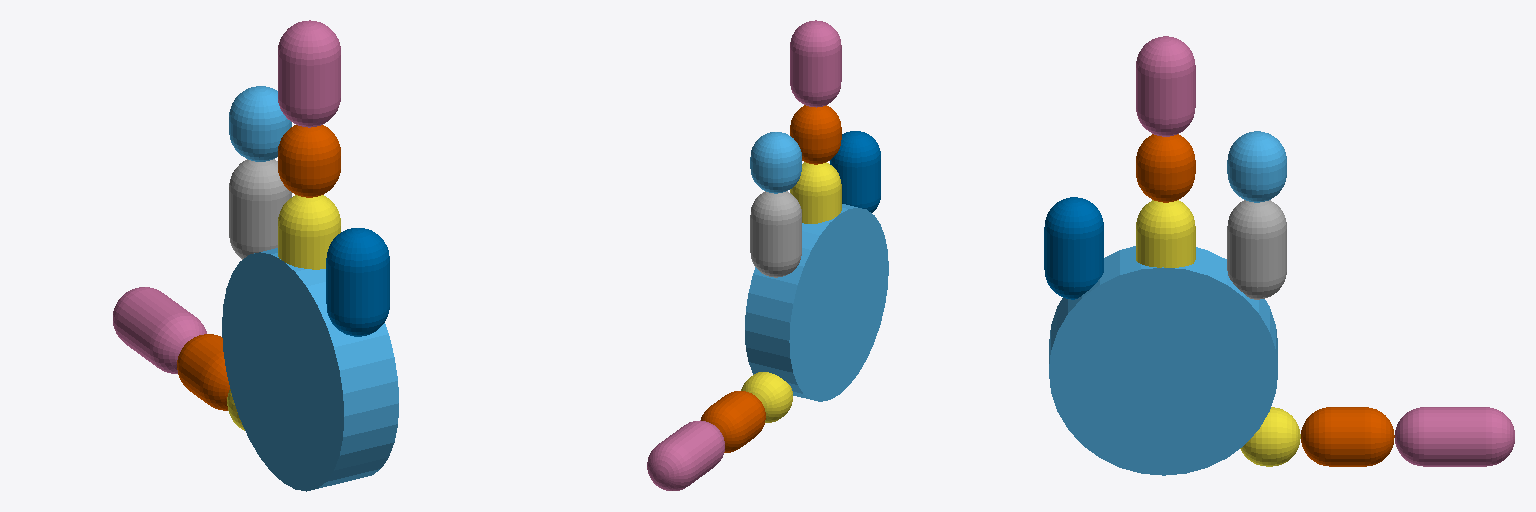
URDF robot description (DexterousHand):
<?xml version="1.0"?>
<robot name="DexterousHand">


    <link name="world"/>
    <joint name="world_to_palm" type="fixed">
        <parent link="world"/>
        <child link="palm"/>
        <origin xyz="0 0 0" rpy="0 0 0"/>
    </joint>
    <link name="palm">
        <inertial>
            <origin xyz="0 0 0.057" rpy="0 0 0"/>
            <mass value="0.30212892864"/>
            <inertia ixx="0.00049080844457568" ixy="0.0" ixz="0.0" iyy="0.00026746366246427523" iyz="0.0" izz="0.00026746366246427523"/>
        </inertial>
        <visual>
            <origin xyz="0 0 0.057" rpy="1.5708 0 1.5708"/>
            <geometry>
                <cylinder radius="0.057" length="0.0296"/>
            </geometry>
            <material name="default"/>
        </visual>
        <collision>
            <origin xyz="0 0 0.057" rpy="1.5708 0 1.5708"/>
            <geometry>
                <cylinder radius="0.057" length="0.0296"/>
            </geometry>
        </collision>
    </link>

    
    <joint name="thumb_joint1" type="revolute">
        <parent link="palm"/>
        <child link="thumb_base"/>
        <origin xyz="0.0029 0.0368 0.0157" rpy="-1.5708 -1.5708 0.0"/>
        <axis xyz="-1 0 0"/>
        <limit lower="-0.349" upper="2.094" effort="1.0" velocity="1.0"/>
    </joint>

    <link name="thumb_base"></link>

    <joint name="thumb_joint2" type="revolute">
        <parent link="thumb_base"/>
        <child link="thumb_proximal"/>
        <origin xyz="0.0 0.0 0.0" rpy="0.0 0.0 0.0"/>
        <axis xyz="0 0 1"/>
        <limit lower="-0.47" upper="2.443" effort="1.0" velocity="1.0"/>
    </joint>

    <link name="thumb_proximal">
        <inertial>
            <origin xyz="0 0 0.01565" rpy="0 0 0"/>
            <mass value="0.021538658803200002"/>
            <inertia ixx="2.9378910096388167e-06" ixy="0.0" ixz="0.0" 
            iyy="2.9378910096388167e-06" iyz="0.0" izz="2.358913912126464e-06"/>
        </inertial>
        <visual>
            <origin xyz="0 0 0.01565" rpy="0 0 0"/>
            <geometry>
                <cylinder radius="0.0148" length="0.0017000000000000001"/>
            </geometry>
            <material name="default"/>
        </visual>
        <visual>
            <origin xyz="0 0 0.0148" rpy="0 0 0"/>
            <geometry>
                <sphere radius="0.0148"/>
            </geometry>
            <material name="default"/>
        </visual>
        <visual>
            <origin xyz="0 0 0.0165" rpy="0 0 0"/>
            <geometry>
                <sphere radius="0.0148"/>
            </geometry>
            <material name="default"/>
        </visual>
        <collision>
            <origin xyz="0 0 0.01565" rpy="0 0 0"/>
            <geometry>
                <cylinder radius="0.0148" length="0.0017000000000000001"/>
            </geometry>
        </collision>
        <collision>
            <origin xyz="0 0 0.0148" rpy="0 0 0"/>
            <geometry>
                <sphere radius="0.0148"/>
            </geometry>
        </collision>
        <collision>
            <origin xyz="0 0 0.0165" rpy="0 0 0"/>
            <geometry>
                <sphere radius="0.0148"/>
            </geometry>
        </collision>
    </link>

    <joint name="thumb_joint3" type="revolute">
        <parent link="thumb_proximal"/>
        <child link="thumb_knuckle"/>
        <origin xyz="0.0 0.0 0.0313" rpy="0.0 0.0 0.0"/>
        <axis xyz="1 0 0"/>
        <limit lower="0.0" upper="0.0" effort="1.0" velocity="1.0"/>
    </joint>

    <link name="thumb_knuckle"></link>

    <joint name="thumb_joint4" type="revolute">
        <parent link="thumb_knuckle"/>
        <child link="thumb_middle"/>
        <origin xyz="0 0 0" rpy="0 0 0"/> 
        <axis xyz="0 1 0"/>
        <limit lower="-1.2" upper="1.9" effort="1.0" velocity="1.0"/>
    </joint>

    <link name="thumb_middle">
        <inertial>
            <origin xyz="0 0 0.0233" rpy="0 0 0"/>
            <mass value="0.032067140582400004"/>
            <inertia ixx="7.5589732685519385e-06" ixy="0.0" ixz="0.0" 
            iyy="7.5589732685519385e-06" iyz="0.0" izz="3.5119932365844485e-06"/>
        </inertial>
        <visual>
            <origin xyz="0 0 0.0233" rpy="0 0 0"/>
            <geometry>
                <cylinder radius="0.0148" length="0.017"/>
            </geometry>
            <material name="default"/>
        </visual>
        <visual>
            <origin xyz="0 0 0.0148" rpy="0 0 0"/>
            <geometry>
                <sphere radius="0.0148"/>
            </geometry>
            <material name="default"/>
        </visual>
        <visual>
            <origin xyz="0 0 0.0318" rpy="0 0 0"/>
            <geometry>
                <sphere radius="0.0148"/>
            </geometry>
            <material name="default"/>
        </visual>
        <collision>
            <origin xyz="0 0 0.0233" rpy="0 0 0"/>
            <geometry>
                <cylinder radius="0.0148" length="0.017"/>
            </geometry>
        </collision>
        <collision>
            <origin xyz="0 0 0.0148" rpy="0 0 0"/>
            <geometry>
                <sphere radius="0.0148"/>
            </geometry>
        </collision>
        <collision>
            <origin xyz="0 0 0.0318" rpy="0 0 0"/>
            <geometry>
                <sphere radius="0.0148"/>
            </geometry>
        </collision>
    </link>

    <joint name="thumb_joint5" type="revolute">
        <parent link="thumb_middle"/>
        <child link="thumb_distal"/>
        <origin xyz="0 0 0.0466" rpy="0 0 0"/> 
        <axis xyz="0 1 0"/>
        <limit lower="-1.34" upper="1.88" effort="1.0" velocity="1.0"/>
    </joint>

    <link name="thumb_distal">
        <inertial>
            <origin xyz="0 0 0.03" rpy="0 0 0"/>
            <mass value="0.04128816384"/>
            <inertia ixx="1.46473890038784e-05" ixy="0.0" ixz="0.0" 
            iyy="1.46473890038784e-05" iyz="0.0" izz="4.521879703756801e-06"/>
        </inertial>
        <visual>
            <origin xyz="0 0 0.03" rpy="0 0 0"/>
            <geometry>
                <cylinder radius="0.0148" length="0.030399999999999996"/>
            </geometry>
            <material name="default"/>
        </visual>
        <visual>
            <origin xyz="0 0 0.0148" rpy="0 0 0"/>
            <geometry>
                <sphere radius="0.0148"/>
            </geometry>
            <material name="default"/>
        </visual>
        <visual>
            <origin xyz="0 0 0.0452" rpy="0 0 0"/>
            <geometry>
                <sphere radius="0.0148"/>
            </geometry>
            <material name="default"/>
        </visual>
        <collision>
            <origin xyz="0 0 0.03" rpy="0 0 0"/>
            <geometry>
                <cylinder radius="0.0148" length="0.030399999999999996"/>
            </geometry>
        </collision>
        <collision>
            <origin xyz="0 0 0.0148" rpy="0 0 0"/>
            <geometry>
                <sphere radius="0.0148"/>
            </geometry>
        </collision>
        <collision>
            <origin xyz="0 0 0.0452" rpy="0 0 0"/>
            <geometry>
                <sphere radius="0.0148"/>
            </geometry>
        </collision>
    </link>

    
    <joint name="index_joint1" type="revolute">
        <parent link="palm"/>
        <child link="index_proximal"/>
        <origin xyz="0.0 0.0465 0.091" rpy="0.0 0.0 0.0"/>
        <axis xyz="0 1 0"/>
        <limit lower="-0.314" upper="2.23" effort="1.0" velocity="1.0"/>
    </joint>

    <link name="index_proximal">
        <inertial>
            <origin xyz="0 0 0.02655" rpy="0 0 0"/>
            <mass value="0.036540024998400006"/>
            <inertia ixx="1.058665009272394e-05" ixy="0.0" ixz="0.0" 
            iyy="1.058665009272394e-05" iyz="0.0" izz="4.001863537824769e-06"/>
        </inertial>
        <visual>
            <origin xyz="0 0 0.02655" rpy="0 0 0"/>
            <geometry>
                <cylinder radius="0.0148" length="0.0235"/>
            </geometry>
            <material name="default"/>
        </visual>
        <visual>
            <origin xyz="0 0 0.0148" rpy="0 0 0"/>
            <geometry>
                <sphere radius="0.0148"/>
            </geometry>
            <material name="default"/>
        </visual>
        <visual>
            <origin xyz="0 0 0.0383" rpy="0 0 0"/>
            <geometry>
                <sphere radius="0.0148"/>
            </geometry>
            <material name="default"/>
        </visual>
        <collision>
            <origin xyz="0 0 0.02655" rpy="0 0 0"/>
            <geometry>
                <cylinder radius="0.0148" length="0.0235"/>
            </geometry>
        </collision>
        <collision>
            <origin xyz="0 0 0.0148" rpy="0 0 0"/>
            <geometry>
                <sphere radius="0.0148"/>
            </geometry>
        </collision>
        <collision>
            <origin xyz="0 0 0.0383" rpy="0 0 0"/>
            <geometry>
                <sphere radius="0.0148"/>
            </geometry>
        </collision>
    </link>

    <joint name="index_joint2" type="revolute">
        <parent link="index_proximal"/>
        <child link="index_dummy"/>
        <origin xyz="0.0 0.0 0.038" rpy="0.0 0.0 0.0"/>
        <axis xyz="1 0 0"/>
        <limit lower="-1.047" upper="1.047" effort="1.0" velocity="1.0"/>
    </joint>

    <link name="index_dummy"></link>

    <joint name="index_joint3" type="revolute">
        <parent link="index_dummy"/>
        <child link="index_middle"/>
        <origin xyz="0 0 0.015100000000000002" rpy="0 0 0"/>
        <axis xyz="0 1 0"/>
        <limit lower="-0.506" upper="1.885" effort="1.0" velocity="1.0"/>
    </joint>

    <link name="index_middle">
        <inertial>
            <origin xyz="0 0 0.01805" rpy="0 0 0"/>
            <mass value="0.0248417119104"/>
            <inertia ixx="4.058162759109537e-06" ixy="0.0" ixz="0.0" 
            iyy="4.058162759109537e-06" iyz="0.0" izz="2.7206642884270085e-06"/>
        </inertial>
        <visual>
            <origin xyz="0 0 0.01805" rpy="0 0 0"/>
            <geometry>
                <cylinder radius="0.0148" length="0.006499999999999999"/>
            </geometry>
            <material name="default"/>
        </visual>
        <visual>
            <origin xyz="0 0 0.0148" rpy="0 0 0"/>
            <geometry>
                <sphere radius="0.0148"/>
            </geometry>
            <material name="default"/>
        </visual>
        <visual>
            <origin xyz="0 0 0.0213" rpy="0 0 0"/>
            <geometry>
                <sphere radius="0.0148"/>
            </geometry>
            <material name="default"/>
        </visual>
        <collision>
            <origin xyz="0 0 0.01805" rpy="0 0 0"/>
            <geometry>
                <cylinder radius="0.0148" length="0.006499999999999999"/>
            </geometry>
        </collision>
        <collision>
            <origin xyz="0 0 0.0148" rpy="0 0 0"/>
            <geometry>
                <sphere radius="0.0148"/>
            </geometry>
        </collision>
        <collision>
            <origin xyz="0 0 0.0213" rpy="0 0 0"/>
            <geometry>
                <sphere radius="0.0148"/>
            </geometry>
        </collision>
    </link>

    <joint name="index_joint4" type="revolute">
        <parent link="index_middle"/>
        <child link="index_distal"/>
        <origin xyz="0 0 0.0361" rpy="0 0 0"/> 
        <axis xyz="0 1 0"/>
        <limit lower="0.0" upper="0.0" effort="1.0" velocity="1.0"/>
    </joint>

    <link name="index_distal">
    </link>

    
    <joint name="middle_joint1" type="revolute">
        <parent link="palm"/>
        <child link="middle_proximal"/>
        <origin xyz="0.0 0.0011 0.091" rpy="0.0 0.0 0.0"/>
        <axis xyz="0 1 0"/>
        <limit lower="-0.314" upper="2.23" effort="1.0" velocity="1.0"/>
    </joint>

    <link name="middle_proximal">
        <inertial>
            <origin xyz="0 0 0.02655" rpy="0 0 0"/>
            <mass value="0.036540024998400006"/>
            <inertia ixx="1.058665009272394e-05" ixy="0.0" ixz="0.0" 
            iyy="1.058665009272394e-05" iyz="0.0" izz="4.001863537824769e-06"/>
        </inertial>
        <visual>
            <origin xyz="0 0 0.02655" rpy="0 0 0"/>
            <geometry>
                <cylinder radius="0.0148" length="0.0235"/>
            </geometry>
            <material name="default"/>
        </visual>
        <visual>
            <origin xyz="0 0 0.0148" rpy="0 0 0"/>
            <geometry>
                <sphere radius="0.0148"/>
            </geometry>
            <material name="default"/>
        </visual>
        <visual>
            <origin xyz="0 0 0.0383" rpy="0 0 0"/>
            <geometry>
                <sphere radius="0.0148"/>
            </geometry>
            <material name="default"/>
        </visual>
        <collision>
            <origin xyz="0 0 0.02655" rpy="0 0 0"/>
            <geometry>
                <cylinder radius="0.0148" length="0.0235"/>
            </geometry>
        </collision>
        <collision>
            <origin xyz="0 0 0.0148" rpy="0 0 0"/>
            <geometry>
                <sphere radius="0.0148"/>
            </geometry>
        </collision>
        <collision>
            <origin xyz="0 0 0.0383" rpy="0 0 0"/>
            <geometry>
                <sphere radius="0.0148"/>
            </geometry>
        </collision>
    </link>

    <joint name="middle_joint2" type="revolute">
        <parent link="middle_proximal"/>
        <child link="middle_dummy"/>
        <origin xyz="0.0 0.0 0.038" rpy="0.0 0.0 0.0"/>
        <axis xyz="1 0 0"/>
        <limit lower="-1.047" upper="1.047" effort="1.0" velocity="1.0"/>
    </joint>

    <link name="middle_dummy"></link>

    <joint name="middle_joint3" type="revolute">
        <parent link="middle_dummy"/>
        <child link="middle_middle"/>
        <origin xyz="0 0 0.015100000000000002" rpy="0 0 0"/>
        <axis xyz="0 1 0"/>
        <limit lower="-0.506" upper="1.885" effort="1.0" velocity="1.0"/>
    </joint>

    <link name="middle_middle">
        <inertial>
            <origin xyz="0 0 0.01805" rpy="0 0 0"/>
            <mass value="0.0248417119104"/>
            <inertia ixx="4.058162759109537e-06" ixy="0.0" ixz="0.0" 
            iyy="4.058162759109537e-06" iyz="0.0" izz="2.7206642884270085e-06"/>
        </inertial>
        <visual>
            <origin xyz="0 0 0.01805" rpy="0 0 0"/>
            <geometry>
                <cylinder radius="0.0148" length="0.006499999999999999"/>
            </geometry>
            <material name="default"/>
        </visual>
        <visual>
            <origin xyz="0 0 0.0148" rpy="0 0 0"/>
            <geometry>
                <sphere radius="0.0148"/>
            </geometry>
            <material name="default"/>
        </visual>
        <visual>
            <origin xyz="0 0 0.0213" rpy="0 0 0"/>
            <geometry>
                <sphere radius="0.0148"/>
            </geometry>
            <material name="default"/>
        </visual>
        <collision>
            <origin xyz="0 0 0.01805" rpy="0 0 0"/>
            <geometry>
                <cylinder radius="0.0148" length="0.006499999999999999"/>
            </geometry>
        </collision>
        <collision>
            <origin xyz="0 0 0.0148" rpy="0 0 0"/>
            <geometry>
                <sphere radius="0.0148"/>
            </geometry>
        </collision>
        <collision>
            <origin xyz="0 0 0.0213" rpy="0 0 0"/>
            <geometry>
                <sphere radius="0.0148"/>
            </geometry>
        </collision>
    </link>

    <joint name="middle_joint4" type="revolute">
        <parent link="middle_middle"/>
        <child link="middle_distal"/>
        <origin xyz="0 0 0.0361" rpy="0 0 0"/> 
        <axis xyz="0 1 0"/>
        <limit lower="-0.366" upper="2.042" effort="1.0" velocity="1.0"/>
    </joint>

    <link name="middle_distal">
        <inertial>
            <origin xyz="0 0 0.026" rpy="0 0 0"/>
            <mass value="0.035783075328"/>
            <inertia ixx="1.002260084553728e-05" ixy="0.0" ixz="0.0" 
            iyy="1.002260084553728e-05" iyz="0.0" izz="3.91896240992256e-06"/>
        </inertial>
        <visual>
            <origin xyz="0 0 0.026" rpy="0 0 0"/>
            <geometry>
                <cylinder radius="0.0148" length="0.022399999999999996"/>
            </geometry>
            <material name="default"/>
        </visual>
        <visual>
            <origin xyz="0 0 0.0148" rpy="0 0 0"/>
            <geometry>
                <sphere radius="0.0148"/>
            </geometry>
            <material name="default"/>
        </visual>
        <visual>
            <origin xyz="0 0 0.0372" rpy="0 0 0"/>
            <geometry>
                <sphere radius="0.0148"/>
            </geometry>
            <material name="default"/>
        </visual>
        <collision>
            <origin xyz="0 0 0.026" rpy="0 0 0"/>
            <geometry>
                <cylinder radius="0.0148" length="0.022399999999999996"/>
            </geometry>
        </collision>
        <collision>
            <origin xyz="0 0 0.0148" rpy="0 0 0"/>
            <geometry>
                <sphere radius="0.0148"/>
            </geometry>
        </collision>
        <collision>
            <origin xyz="0 0 0.0372" rpy="0 0 0"/>
            <geometry>
                <sphere radius="0.0148"/>
            </geometry>
        </collision>
    </link>

    
    <joint name="ring_joint1" type="revolute">
        <parent link="palm"/>
        <child link="ring_proximal"/>
        <origin xyz="0.0 0.0 0.0" rpy="0.0 0.0 0.0"/>
        <axis xyz="1 0 0"/>
        <limit lower="0.0" upper="0.0" effort="1.0" velocity="1.0"/>
    </joint>

    <link name="ring_proximal">
    </link>

    <joint name="ring_joint2" type="revolute">
        <parent link="ring_proximal"/>
        <child link="ring_dummy"/>
        <origin xyz="0.0 0.0 0.0" rpy="0.0 0.0 0.0"/>
        <axis xyz="0 1 0"/>
        <limit lower="0.0" upper="0.0" effort="1.0" velocity="1.0"/>
    </joint>

    <link name="ring_dummy"></link>

    <joint name="ring_joint3" type="revolute">
        <parent link="ring_dummy"/>
        <child link="ring_middle"/>
        <origin xyz="0 0 0" rpy="0 0 0"/>
        <axis xyz="0 1 0"/>
        <limit lower="0.0" upper="0.0" effort="1.0" velocity="1.0"/>
    </joint>

    <link name="ring_middle">
    </link>

    <joint name="ring_joint4" type="revolute">
        <parent link="ring_middle"/>
        <child link="ring_distal"/>
        <origin xyz="0 0 0" rpy="0 0 0"/> 
        <axis xyz="0 1 0"/>
        <limit lower="0.0" upper="0.0" effort="1.0" velocity="1.0"/>
    </joint>

    <link name="ring_distal">
    </link>

    
    <joint name="little_joint0" type="revolute">
        <parent link="palm"/>
        <child link="little_base"/>
        <origin xyz="0.0 0.0 0.0" rpy="0.0 0.0 0.0"/>
        <axis xyz="0 1 0"/>
        <limit lower="0.0" upper="0.0" effort="1.0" velocity="1.0"/>
    </joint>

    <link name="little_base"></link>

    <joint name="little_joint1" type="revolute">
        <parent link="little_base"/>
        <child link="little_proximal"/>
        <origin xyz="0.0 -0.0443 0.091" rpy="-0.0 -0.0 -0.0"/>
        <axis xyz="0 1 0"/>
        <limit lower="-0.314" upper="2.23" effort="1.0" velocity="1.0"/>
    </joint>

    <link name="little_proximal">
        <inertial>
            <origin xyz="0 0 0.02655" rpy="0 0 0"/>
            <mass value="0.036540024998400006"/>
            <inertia ixx="1.058665009272394e-05" ixy="0.0" ixz="0.0" 
            iyy="1.058665009272394e-05" iyz="0.0" izz="4.001863537824769e-06"/>
        </inertial>
        <visual>
            <origin xyz="0 0 0.02655" rpy="0 0 0"/>
            <geometry>
                <cylinder radius="0.0148" length="0.0235"/>
            </geometry>
            <material name="default"/>
        </visual>
        <visual>
            <origin xyz="0 0 0.0148" rpy="0 0 0"/>
            <geometry>
                <sphere radius="0.0148"/>
            </geometry>
            <material name="default"/>
        </visual>
        <visual>
            <origin xyz="0 0 0.0383" rpy="0 0 0"/>
            <geometry>
                <sphere radius="0.0148"/>
            </geometry>
            <material name="default"/>
        </visual>
        <collision>
            <origin xyz="0 0 0.02655" rpy="0 0 0"/>
            <geometry>
                <cylinder radius="0.0148" length="0.0235"/>
            </geometry>
        </collision>
        <collision>
            <origin xyz="0 0 0.0148" rpy="0 0 0"/>
            <geometry>
                <sphere radius="0.0148"/>
            </geometry>
        </collision>
        <collision>
            <origin xyz="0 0 0.0383" rpy="0 0 0"/>
            <geometry>
                <sphere radius="0.0148"/>
            </geometry>
        </collision>
    </link>

    <joint name="little_joint2" type="revolute">
        <parent link="little_proximal"/>
        <child link="little_dummy"/>
        <origin xyz="0.0 0.0 0.038" rpy="0.0 0.0 0.0"/>
        <axis xyz="0 1 0"/>
        <limit lower="0.0" upper="0.0" effort="1.0" velocity="1.0"/>
    </joint>

    <link name="little_dummy"></link>

    <joint name="little_joint3" type="revolute">
        <parent link="little_dummy"/>
        <child link="little_middle"/>
        <origin xyz="0 0 0.015100000000000002" rpy="0 0 0"/>
        <axis xyz="0 1 0"/>
        <limit lower="0.0" upper="0.0" effort="1.0" velocity="1.0"/>
    </joint>

    <link name="little_middle">
    </link>

    <joint name="little_joint4" type="revolute">
        <parent link="little_middle"/>
        <child link="little_distal"/>
        <origin xyz="0 0 0" rpy="0 0 0"/>
        <axis xyz="0 1 0"/>
        <limit lower="0.0" upper="0.0" effort="1.0" velocity="1.0"/>
    </joint>

    <link name="little_distal">
    </link>

</robot>

--- Facts derived from the render (not from the file) ---
The picture shows the robot from 3 angles, left to right: view 1: azimuth 30°, elevation 25°; view 2: azimuth 150°, elevation 25°; view 3: azimuth 270°, elevation 25°; orthographic projection.
Model DexterousHand with 24 links and 23 joints (22 revolute, 1 fixed), rooted at world, posed every joint at zero.
Visible links, largest first — view 1: palm, little_proximal, middle_distal, thumb_distal, index_proximal, middle_middle, middle_proximal, index_middle, thumb_middle; view 2: palm, index_proximal, middle_distal, thumb_distal, little_proximal, index_middle, thumb_middle, middle_proximal, middle_middle, thumb_proximal; view 3: palm, thumb_distal, middle_distal, little_proximal, index_proximal, thumb_middle, middle_proximal, index_middle, middle_middle, thumb_proximal.
Boxes of the visible links, x1,y1,x2,y2 form: palm: [222, 248, 398, 491]; little_proximal: [326, 228, 389, 336]; middle_distal: [278, 20, 340, 127]; thumb_distal: [113, 287, 206, 373]; index_proximal: [229, 159, 291, 259]; middle_middle: [278, 125, 340, 197]; middle_proximal: [278, 195, 340, 269]; index_middle: [229, 86, 291, 161]; thumb_middle: [177, 334, 229, 410]; palm: [745, 204, 888, 401]; index_proximal: [750, 191, 801, 277]; middle_distal: [790, 20, 841, 107]; thumb_distal: [647, 420, 724, 490]; little_proximal: [830, 131, 880, 212]; index_middle: [750, 132, 801, 193]; thumb_middle: [701, 391, 765, 452]; middle_proximal: [790, 162, 841, 223]; middle_middle: [790, 105, 841, 164]; thumb_proximal: [741, 372, 792, 422]; palm: [1049, 246, 1277, 475]; thumb_distal: [1395, 407, 1514, 466]; middle_distal: [1136, 36, 1195, 136]; little_proximal: [1044, 197, 1103, 299]; index_proximal: [1227, 200, 1286, 299]; thumb_middle: [1301, 407, 1394, 466]; middle_proximal: [1136, 200, 1195, 267]; index_middle: [1227, 131, 1286, 202]; middle_middle: [1136, 134, 1195, 202]; thumb_proximal: [1240, 407, 1300, 466].
Size in the robot's own frame: 0.0325 by 0.2338 by 0.2322 metres.
Geometry: primitives only (box / cylinder / sphere), no mesh files.
